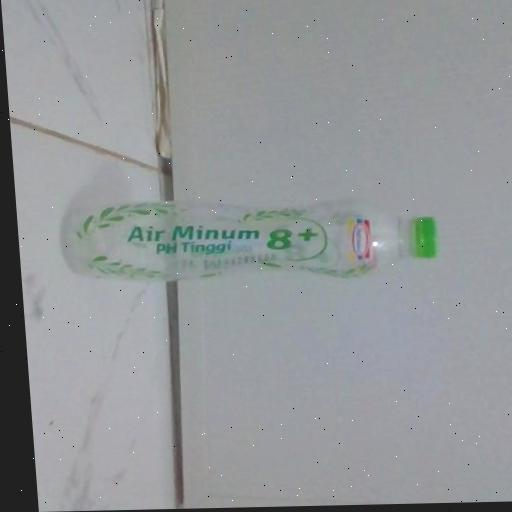ba: (43, 163, 478, 319)
